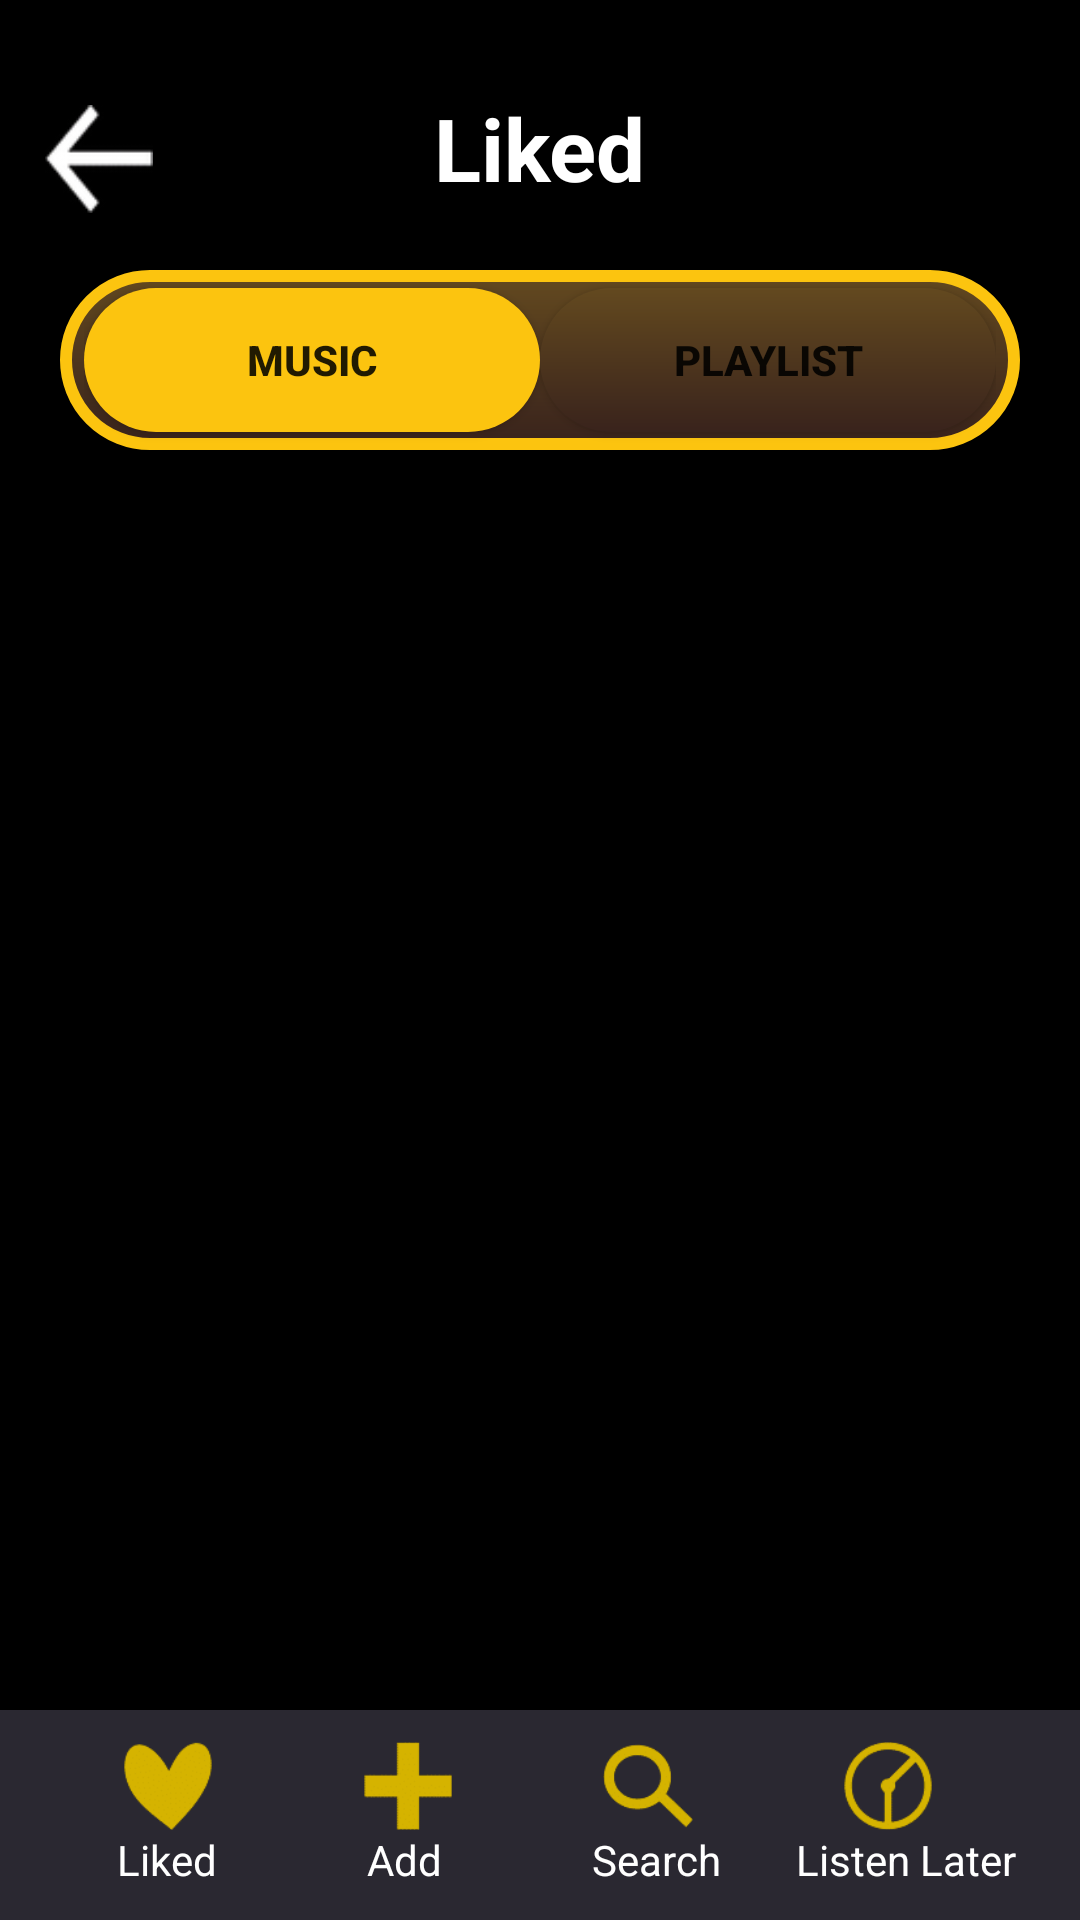

Icon click points for this 1080 x 1920 phone screenshot, format [x,y]:
backarrow page: [99,159]
